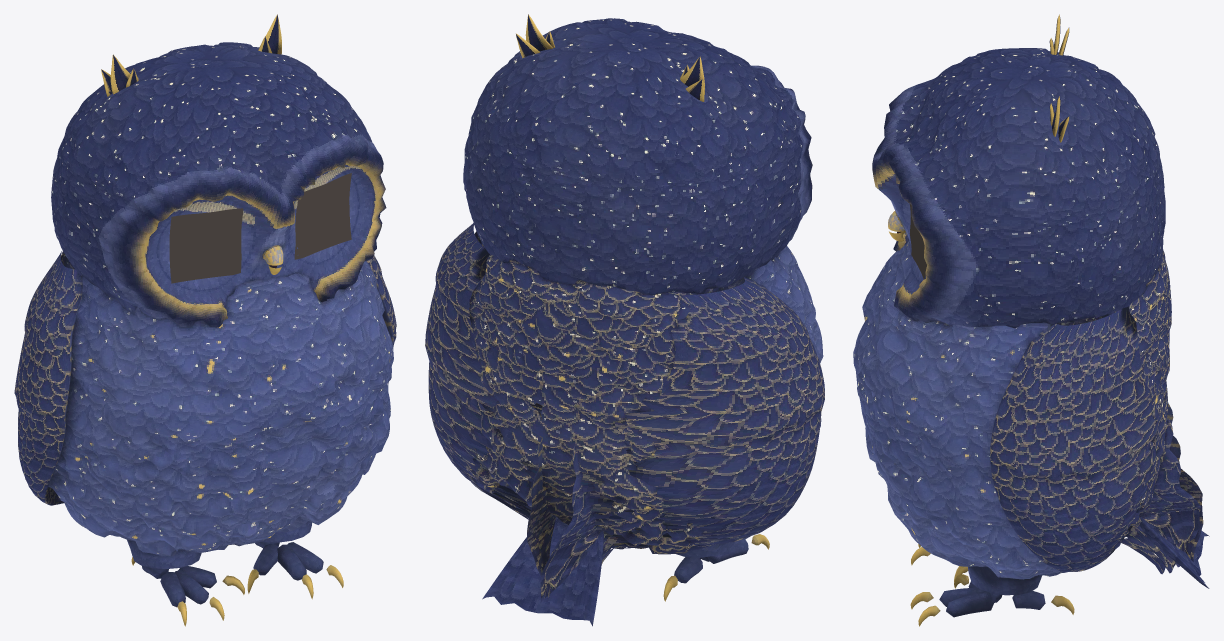
The model's file is celestial.glb.
3 views of the same model, side by side, from view 1: azimuth 30°, elevation 25°; view 2: azimuth 150°, elevation 25°; view 3: azimuth 270°, elevation 25° (orthographic). The views are drawn at different scales.
Visible parts, largest first — view 1: body_mesh, head_mesh, wing_l_mesh, eye_l, eye_r, leg_l_mesh, wing_r_mesh, leg_rt1_mesh, leg_lt0_mesh, leg_lt1_mesh, leg_rt2_mesh; view 2: head_mesh, body_mesh, wing_l_mesh, wing_r_mesh, tail_mesh; view 3: head_mesh, body_mesh, wing_r_mesh, leg_r_mesh, tail_mesh, wing_l_mesh, leg_rt0_mesh, eye_r, leg_rt3_mesh.
Part boxes in pixels (x1,y1,x2,y2): body_mesh: (48, 251, 393, 556); head_mesh: (51, 42, 386, 327); wing_l_mesh: (14, 251, 82, 505); eye_l: (169, 208, 243, 283); eye_r: (294, 173, 351, 259); leg_l_mesh: (127, 539, 201, 568); wing_r_mesh: (366, 255, 396, 383); leg_rt1_mesh: (277, 544, 306, 580); leg_lt0_mesh: (160, 572, 185, 607); leg_lt1_mesh: (174, 570, 208, 604); leg_rt2_mesh: (253, 543, 278, 575); head_mesh: (463, 18, 812, 294); body_mesh: (461, 231, 823, 554); wing_l_mesh: (540, 277, 824, 603); wing_r_mesh: (425, 223, 556, 597); tail_mesh: (482, 517, 603, 626); head_mesh: (872, 48, 1165, 328); body_mesh: (853, 240, 1171, 579); wing_r_mesh: (990, 306, 1200, 574); leg_r_mesh: (968, 566, 1042, 595); tail_mesh: (1139, 517, 1209, 588); wing_l_mesh: (1167, 402, 1203, 561); leg_rt0_mesh: (946, 591, 995, 617); eye_r: (909, 204, 926, 279); leg_rt3_mesh: (1012, 591, 1045, 609).
Bounding box in the file's own units: 30.71 × 42.36 × 25.68.
2 materials, 1 textured.
